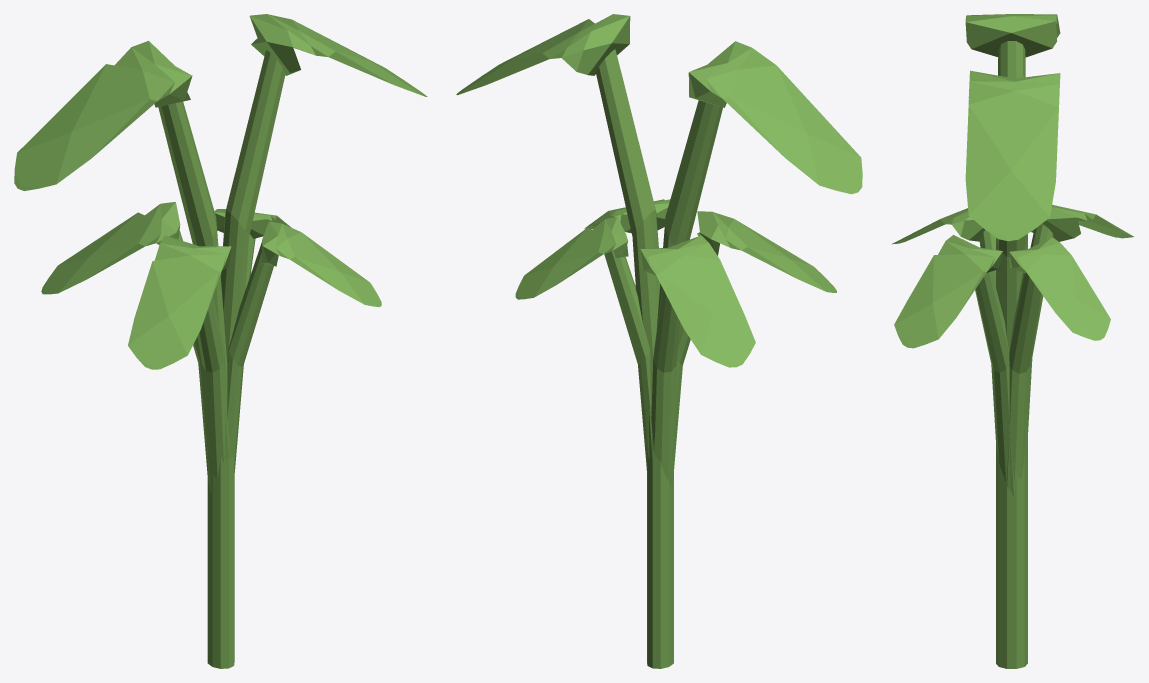
File: Pear plant.fbx
3 renders of one model, left to right at view 1: azimuth 30°, elevation 25°; view 2: azimuth 150°, elevation 25°; view 3: azimuth 270°, elevation 25°, orthographic.
Parts seen in each view (by area): view 1: Cylinder.002; view 2: Cylinder.002; view 3: Cylinder.002.
Boxes of the visible parts, box(x1,y1,x2,y2) form: Cylinder.002: box(14, 14, 427, 668); Cylinder.002: box(456, 14, 862, 668); Cylinder.002: box(892, 14, 1133, 668).
Bounding box in the file's own units: 41.35 × 60.76 × 21.67.
